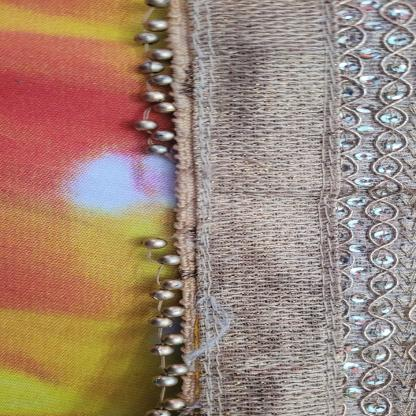spot: (211, 32, 270, 126)
